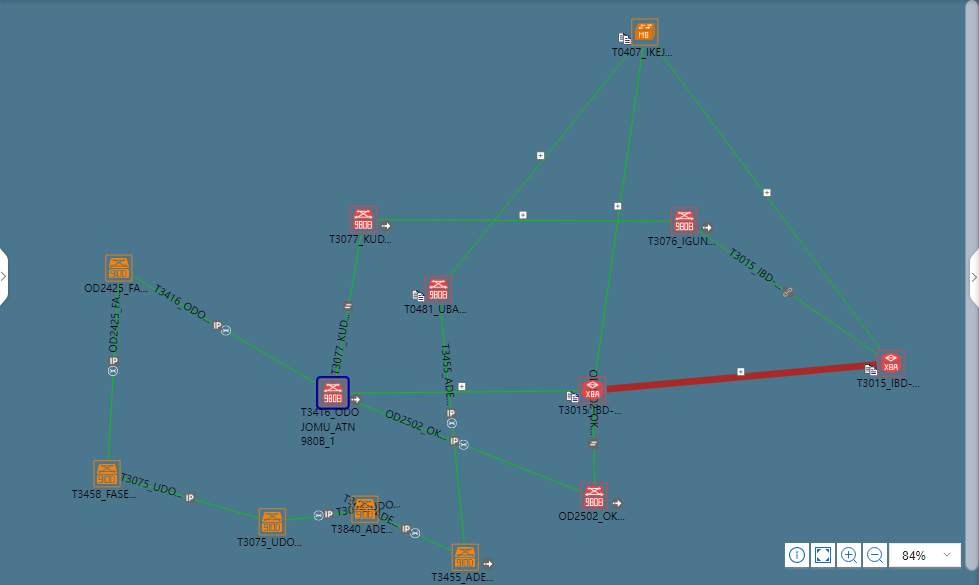ATN_Orange: (352, 497, 381, 527), (95, 461, 118, 490), (260, 510, 283, 539), (107, 259, 130, 282), (456, 546, 479, 568)
ATN_Red: (670, 210, 699, 233), (321, 381, 344, 410), (584, 485, 606, 508), (425, 277, 448, 299), (352, 210, 373, 233)
Link_Green: (652, 45, 878, 348), (450, 45, 638, 273), (701, 237, 875, 355), (590, 45, 650, 380), (138, 279, 320, 383), (437, 435, 583, 496), (119, 473, 255, 517), (437, 309, 463, 533), (352, 400, 462, 442), (333, 234, 359, 372), (352, 400, 441, 435), (384, 516, 454, 557), (107, 283, 124, 429), (447, 393, 463, 545), (445, 369, 462, 502), (285, 510, 341, 527), (590, 436, 601, 484)
Link_Red: (609, 363, 866, 390)
Router_Red: (878, 351, 907, 380), (578, 381, 607, 404)
